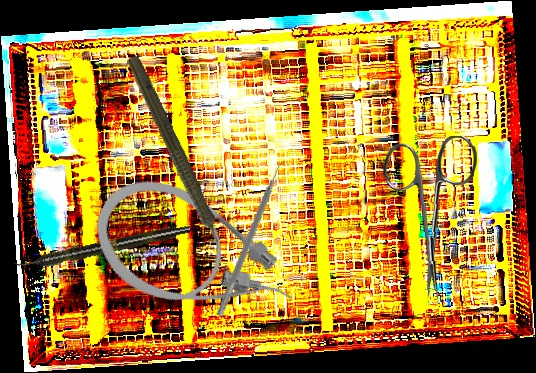Cannula: (75, 157, 311, 361)
Handpiece: (118, 52, 236, 267), (13, 221, 192, 274)
Iris Scissors: (382, 135, 482, 301)
Spatula Surgical: (215, 157, 291, 320)
